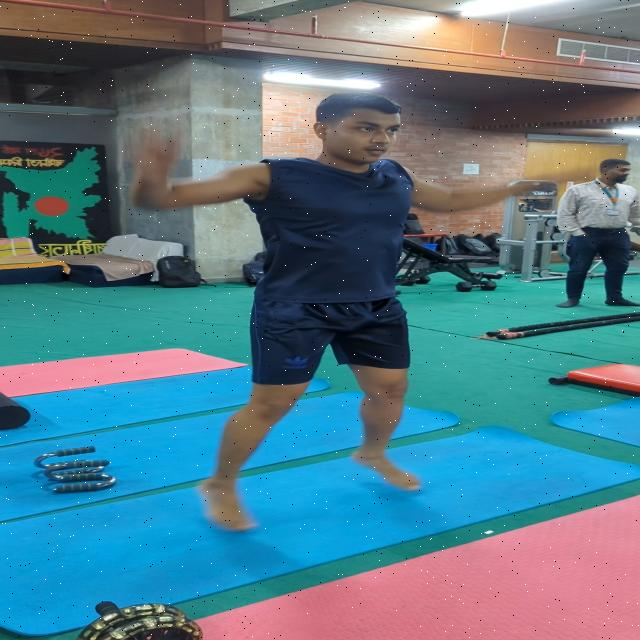Normal_JumpingJacks: (73, 98, 569, 528)
